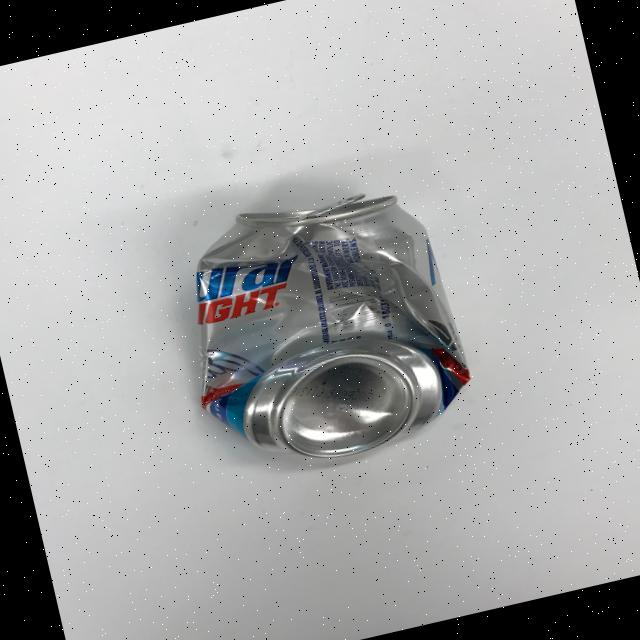metal: (161, 169, 484, 486)
